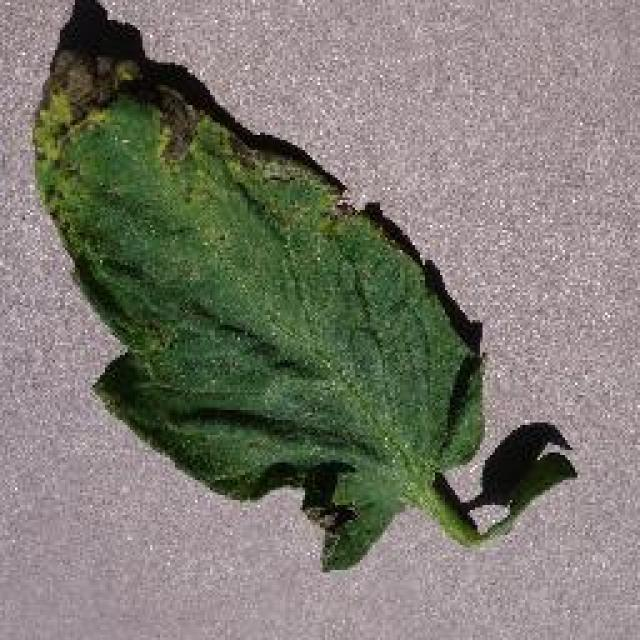Tomato___Septoria_leaf_spot: (35, 0, 575, 570)
